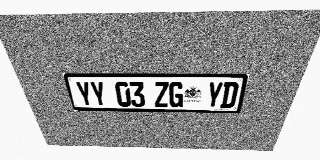0: (114, 81, 131, 107)
3: (129, 81, 145, 107)
D: (220, 82, 240, 108)
G: (169, 82, 184, 107)
Y: (74, 81, 94, 106), (205, 82, 224, 108), (89, 81, 108, 106)
Z: (154, 82, 169, 107)
